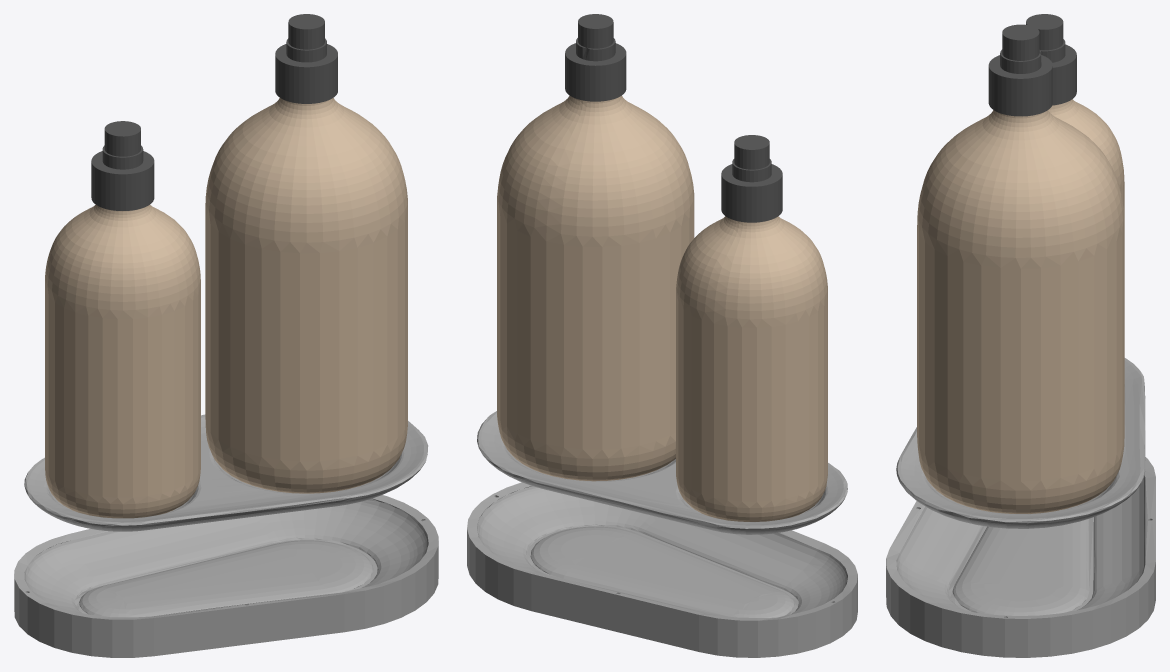
File: tray.glb
3 renders of one model, left to right at view 1: azimuth 30°, elevation 25°; view 2: azimuth 150°, elevation 25°; view 3: azimuth 270°, elevation 25°, orthographic. The views are drawn at different scales.
Parts seen in each view (by area): view 1: tray; view 2: tray; view 3: tray.
Part boxes in pixels (left/top/right/bottom): tray: left=14, top=14, right=438, bottom=657; tray: left=467, top=14, right=857, bottom=657; tray: left=886, top=14, right=1155, bottom=657.
Size of the model in its own units: 2.16 by 3.03 by 1.3.
